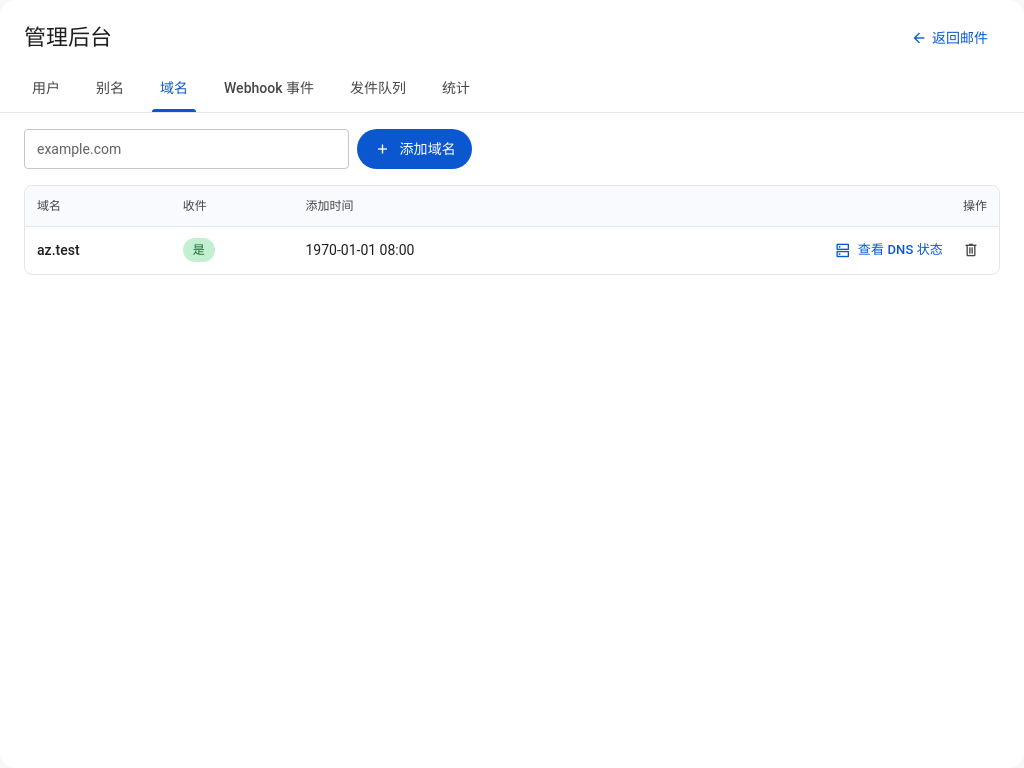
Scenario: Admin → 域名 › tells when Resend does not know the domain
Expected: the text "az.test" is shown, [25,226,171,274]
Click the button "查看 DNS 状态".
click(888, 250)  # box [822,234,955,266]
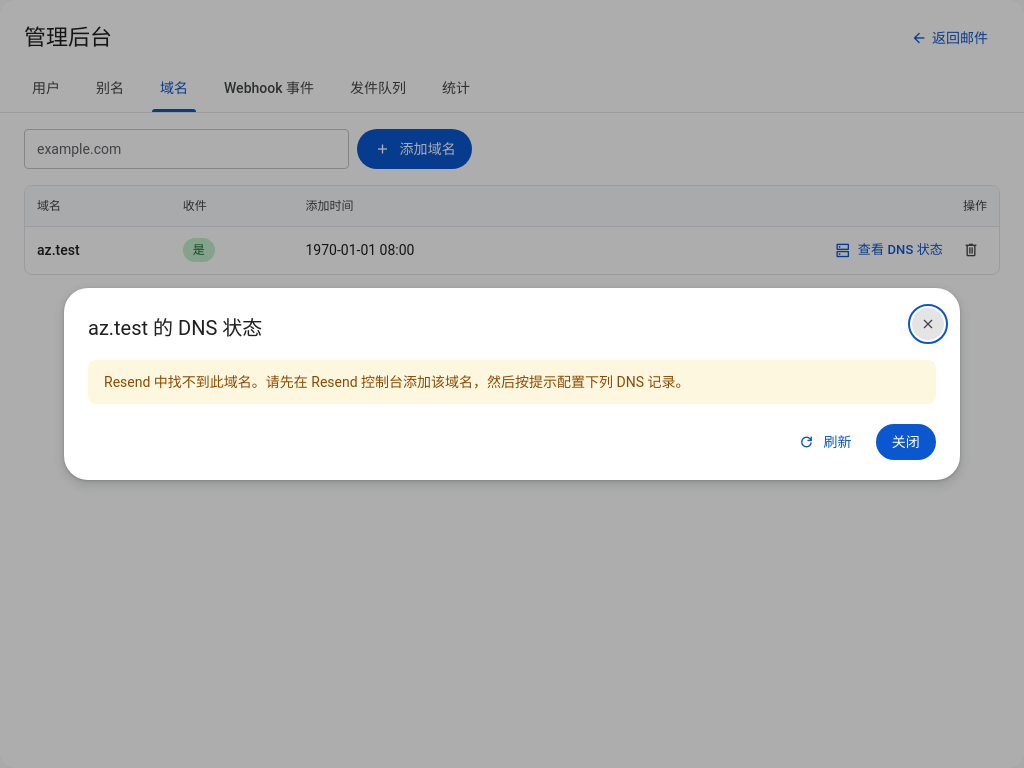
Expected: the text "Resend 中找不到此域名。请先在 Resend 控制台添加该域名，然后按提示配置下列 DNS 记录。" is shown, [88,360,936,404]
